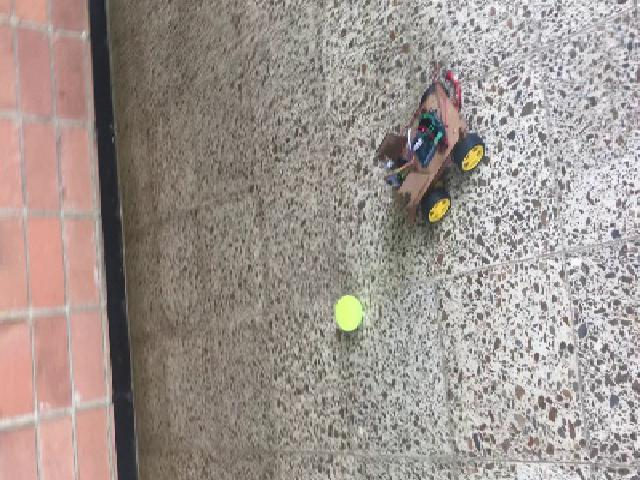Ball: (333, 294, 362, 331)
Robot: (374, 80, 485, 222)
